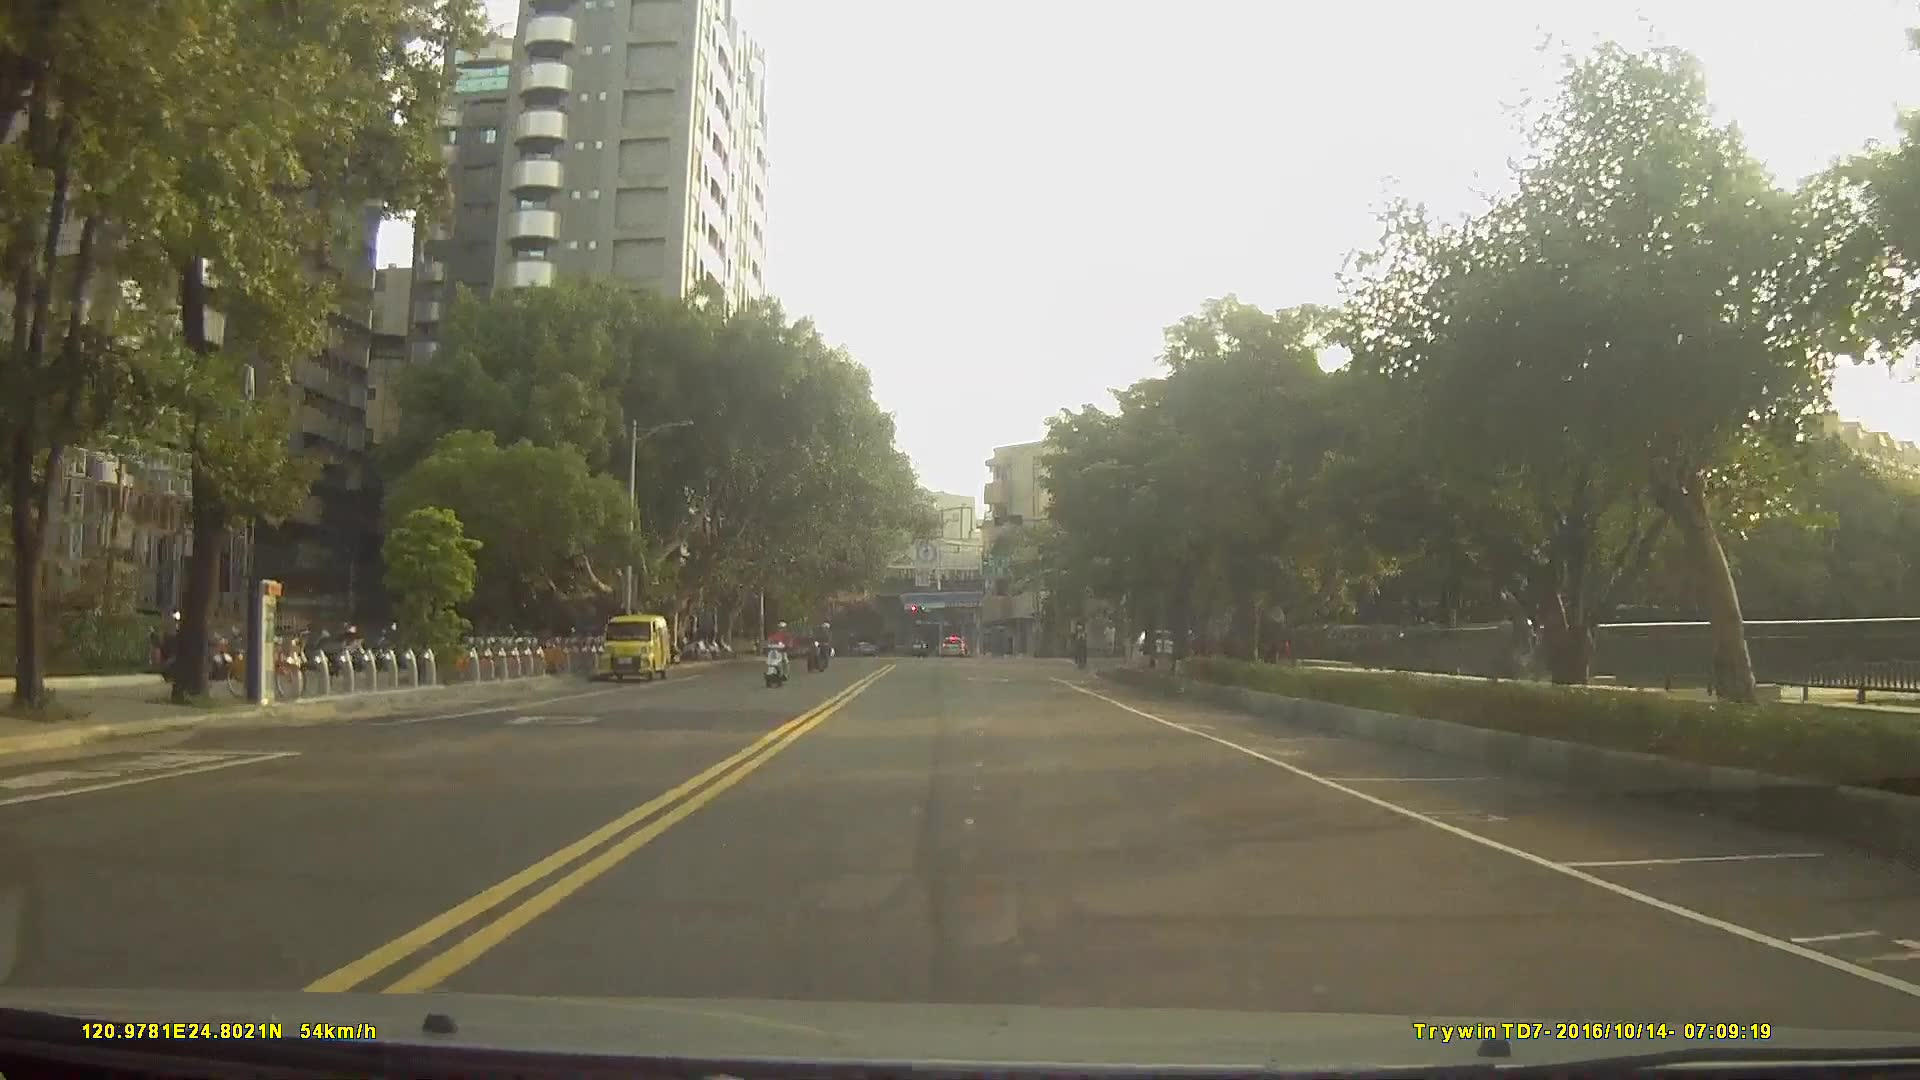pedestrian: (1100, 621, 1120, 660)
rider: (761, 615, 799, 682), (805, 619, 835, 674), (1071, 622, 1091, 669)
vehicle: (935, 632, 965, 658)
